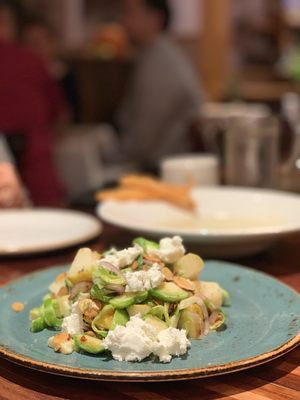pizza: (158, 152, 222, 185)
